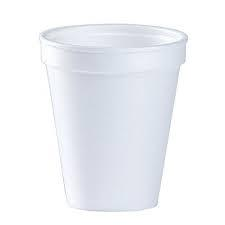Plastic cup: (28, 8, 204, 225)
